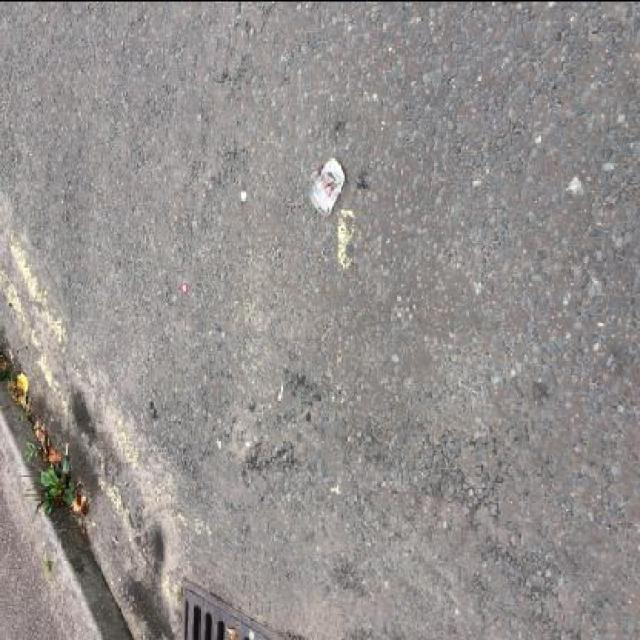plastic: (308, 156, 346, 215)
